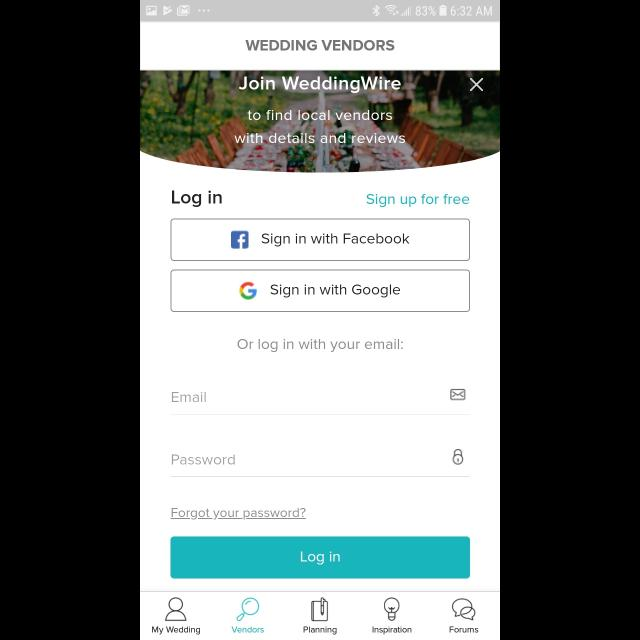icon: (452, 598, 476, 622), (237, 598, 260, 622), (165, 597, 187, 621), (312, 597, 328, 621), (450, 389, 466, 401), (471, 78, 484, 92), (452, 449, 463, 465)
image: (140, 71, 500, 173), (384, 597, 400, 621)
input: (172, 449, 470, 477), (170, 389, 470, 415)
text: (239, 76, 401, 94), (237, 339, 403, 353), (234, 132, 406, 144), (248, 110, 392, 122), (170, 508, 306, 520), (246, 40, 394, 51), (366, 193, 469, 207), (173, 190, 223, 208), (172, 454, 235, 466), (152, 627, 200, 635), (172, 392, 206, 402), (372, 627, 412, 635), (304, 627, 336, 635), (449, 626, 478, 634), (232, 627, 264, 633)
textbutton: (172, 218, 470, 262), (170, 537, 470, 579), (172, 270, 470, 312)
uppertaskbar: (140, 1, 500, 22)
